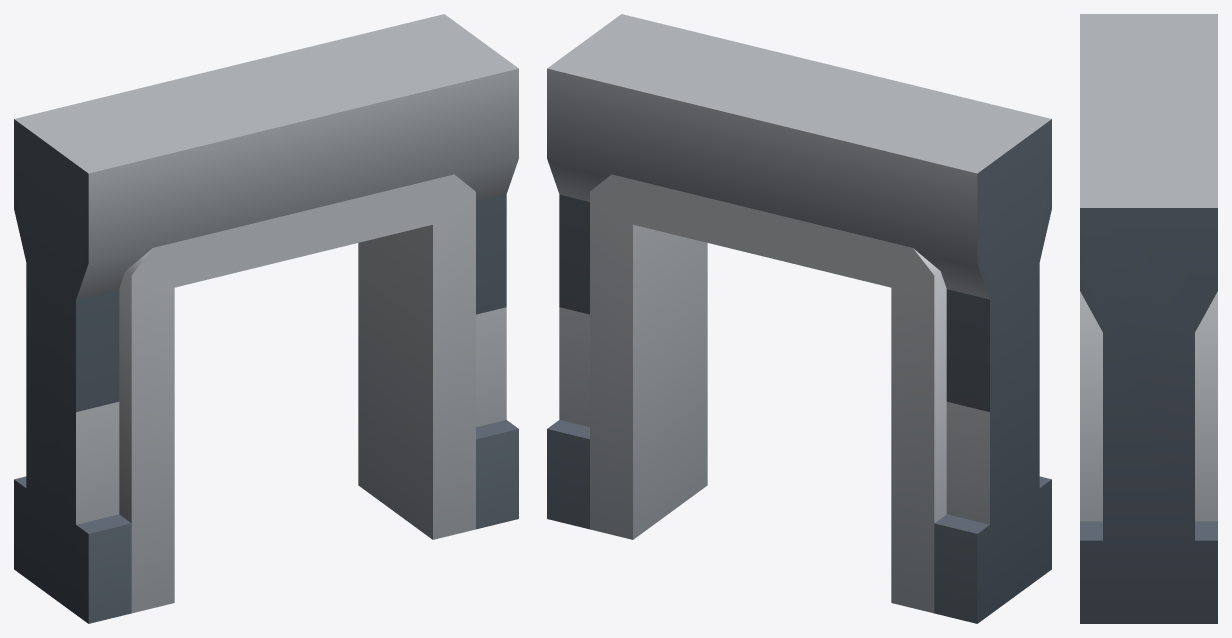
Rendered from wall-door-wide-banner.glb.
3 renders of one model, left to right at view 1: azimuth 30°, elevation 25°; view 2: azimuth 150°, elevation 25°; view 3: azimuth 270°, elevation 25°, orthographic. The views are drawn at different scales.
Parts seen in each view (by area): view 1: wall-door-wide-banner; view 2: wall-door-wide-banner; view 3: wall-door-wide-banner.
Boxes of the visible parts, x1=… form: wall-door-wide-banner: x1=14, y1=14, x2=518, y2=623; wall-door-wide-banner: x1=547, y1=14, x2=1051, y2=623; wall-door-wide-banner: x1=1080, y1=14, x2=1217, y2=623.
Bounding box in the file's own units: 1 × 1 × 0.3.
